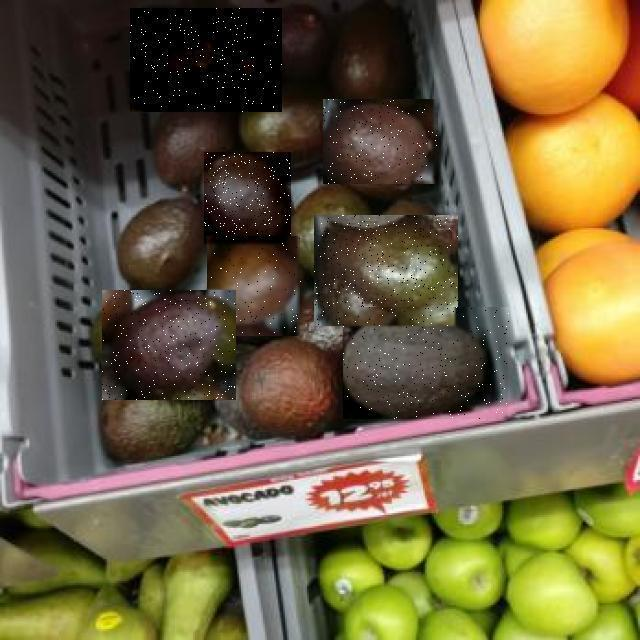Avocado: (344, 307, 510, 419), (314, 215, 458, 326), (130, 8, 282, 112), (102, 290, 236, 400), (324, 99, 438, 184), (208, 236, 302, 336), (204, 153, 291, 245)
